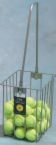tennis ball: (3, 118, 14, 135), (33, 106, 46, 120), (26, 127, 38, 142), (3, 101, 14, 117), (35, 120, 48, 133), (13, 127, 26, 139), (14, 114, 26, 127), (24, 114, 36, 127), (24, 96, 36, 107), (25, 104, 34, 114), (36, 100, 47, 106)
